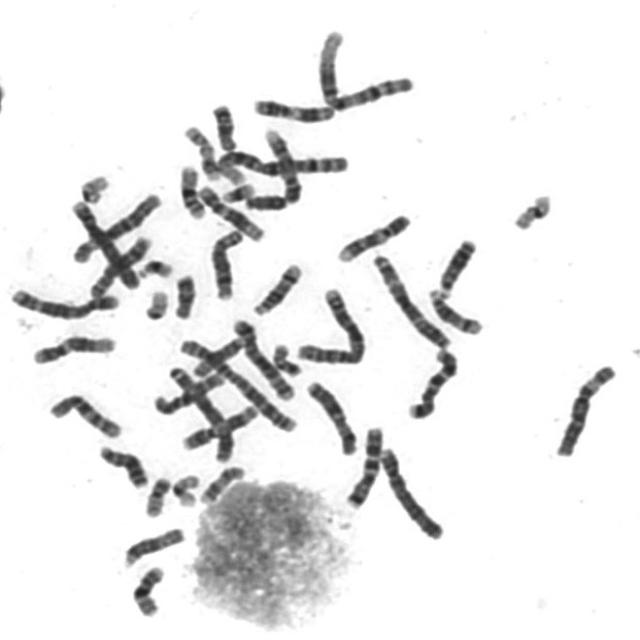A1: (312, 23, 420, 113), (212, 143, 352, 186)
A2: (174, 331, 301, 434), (292, 282, 371, 366)
A3: (367, 247, 455, 350), (163, 360, 238, 464)
B4: (65, 195, 145, 292), (374, 441, 448, 542)
B5: (228, 311, 299, 402), (5, 281, 124, 321)
C10: (44, 387, 127, 440), (146, 369, 235, 414)
C11: (176, 398, 264, 452), (248, 91, 340, 124)
C12: (194, 180, 269, 243), (26, 328, 120, 366)
C6: (68, 186, 166, 265), (550, 357, 622, 459)
C7: (403, 342, 463, 421), (341, 420, 388, 510)
C8: (86, 229, 156, 299), (206, 222, 247, 302)
C9: (333, 207, 415, 264), (258, 122, 306, 205)
D13: (434, 231, 481, 297), (94, 439, 152, 490)
D14: (423, 283, 488, 337), (250, 257, 307, 317)
D15: (118, 520, 188, 568), (188, 331, 250, 378)
E16: (127, 560, 169, 618), (175, 158, 209, 220)
E17: (179, 120, 223, 182), (196, 460, 248, 506)
E18: (207, 97, 242, 152), (169, 267, 201, 321)
F19: (508, 187, 557, 231), (167, 469, 203, 509)
F20: (140, 471, 174, 519), (268, 338, 305, 378)
G21: (132, 253, 177, 280), (218, 176, 258, 204)
G22: (76, 168, 114, 205), (139, 284, 173, 322)
X: (301, 374, 364, 457)
Y: (240, 188, 290, 212)
